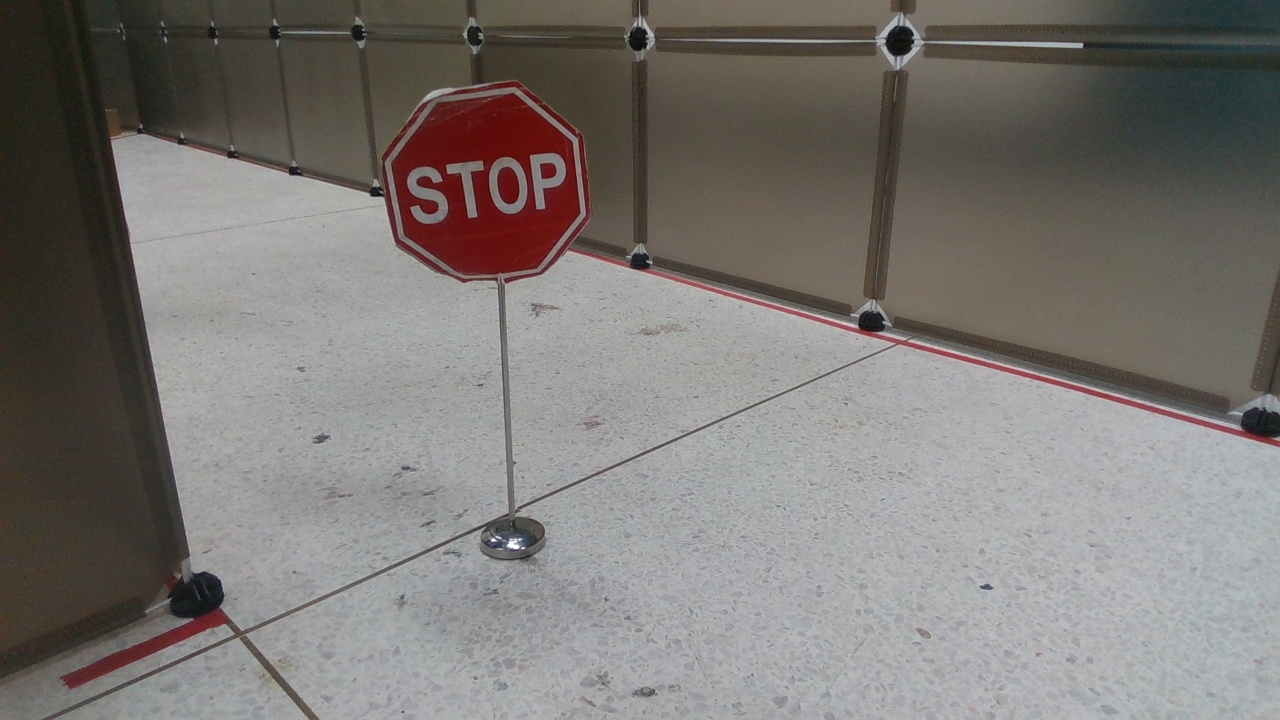Stop sign: (373, 81, 588, 286)
